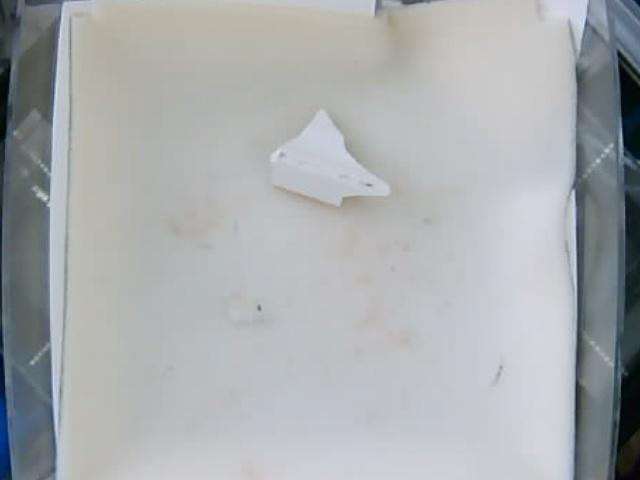China: (267, 110, 391, 209)
